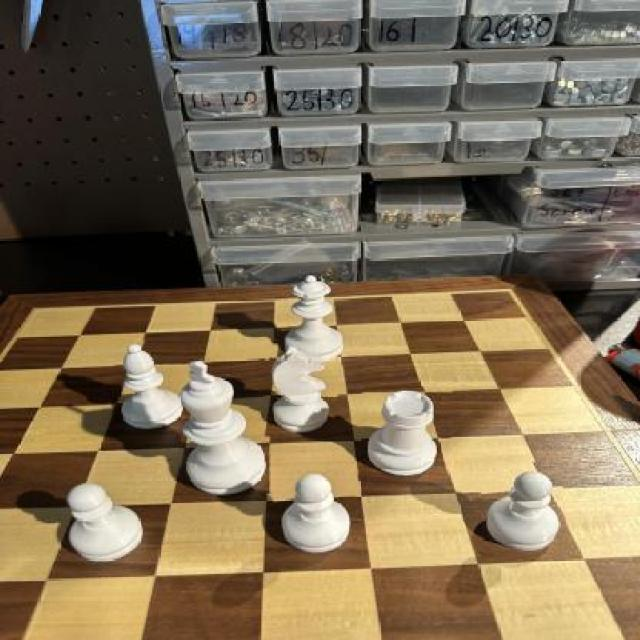black-rook: (112, 340, 190, 435)
white-bishop: (177, 360, 271, 497)
white-king: (263, 345, 342, 440)
white-knight: (478, 461, 567, 557), (274, 470, 357, 554), (64, 484, 148, 564)
white-pawn: (286, 276, 349, 366)
white-queen: (358, 384, 452, 480)
